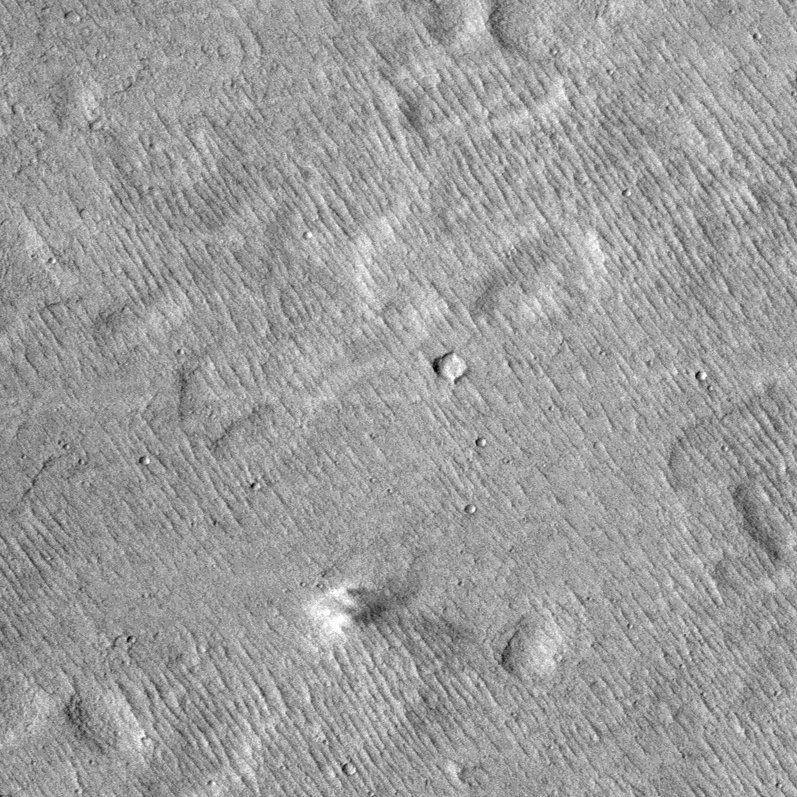dust_devil: (306, 584, 474, 658)
